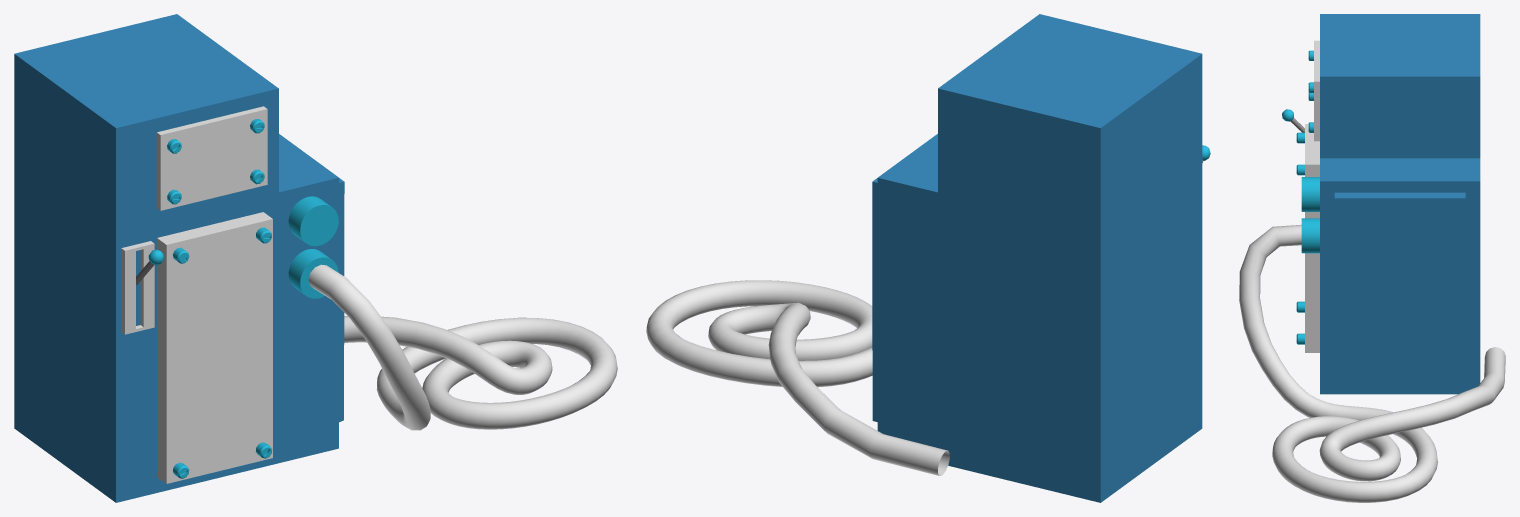
The model's file is Ordinator.fbx.
The picture shows the model from 3 angles, left to right: view 1: azimuth 30°, elevation 25°; view 2: azimuth 150°, elevation 25°; view 3: azimuth 270°, elevation 25°; orthographic projection. The views are drawn at different scales.
Parts seen in each view (by area): view 1: Ordinator; view 2: Ordinator; view 3: Ordinator.
Part boxes in pixels (x1,y1,x2,y2): Ordinator: [14, 14, 617, 502]; Ordinator: [646, 14, 1210, 502]; Ordinator: [1239, 14, 1505, 502].
Bounding box in the file's own units: 2.88 × 2.01 × 1.64.
